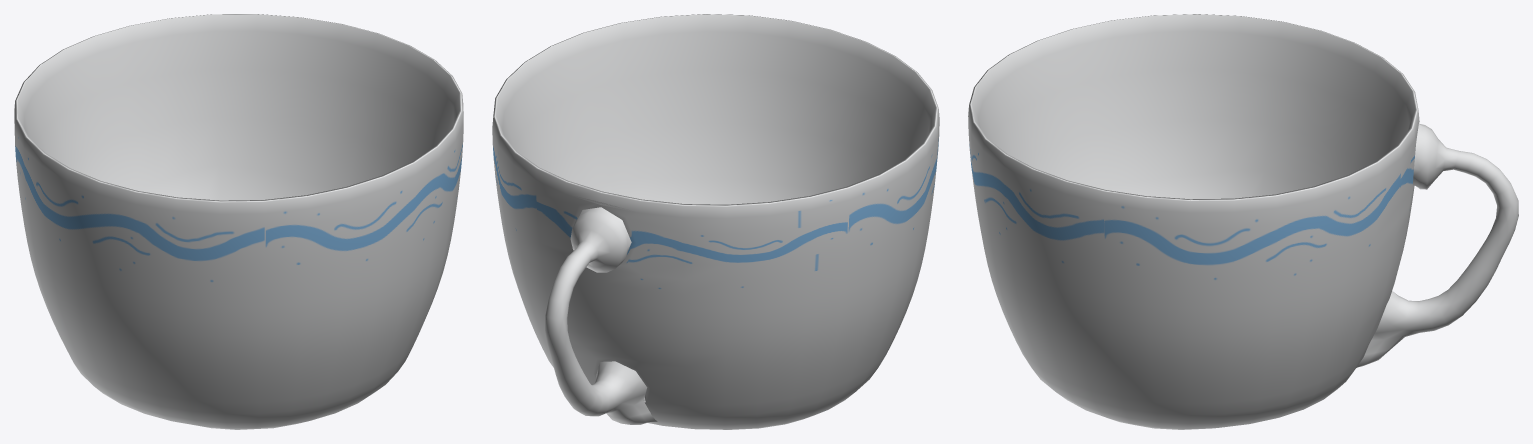
Rendered from Cup1.fbx.
The picture shows the model from 3 angles, left to right: view 1: azimuth 30°, elevation 25°; view 2: azimuth 150°, elevation 25°; view 3: azimuth 270°, elevation 25°; orthographic projection.
Parts seen in each view (by area): view 1: Cup; view 2: Cup; view 3: Cup.
Part boxes in pixels (x1,y1,x2,y2): Cup: (14,14,463,429); Cup: (492,14,939,429); Cup: (968,14,1518,429).
Bounding box in the file's own units: 2.86 × 1.93 × 3.49.
1 material, 1 textured.
